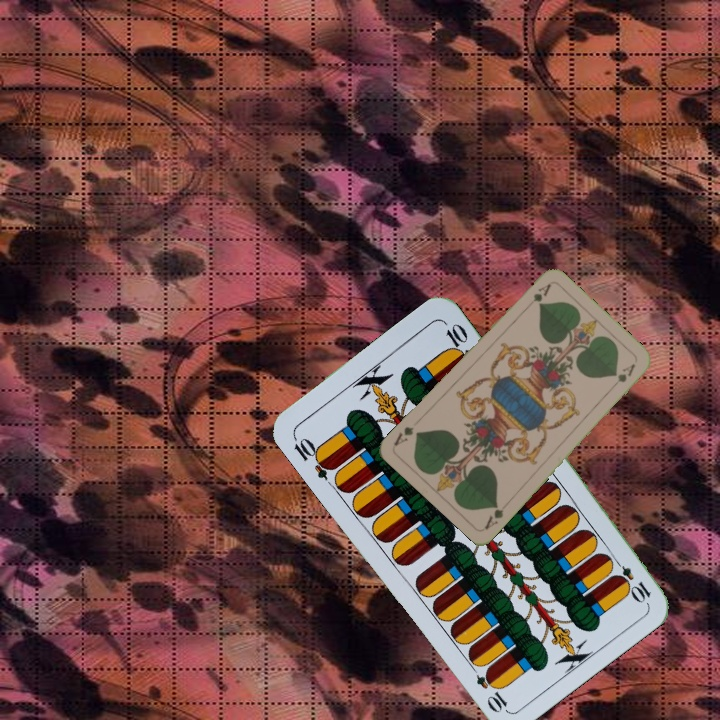E10: (607, 553, 654, 605), (289, 432, 337, 482)
GA: (481, 497, 511, 532), (529, 280, 554, 304)
